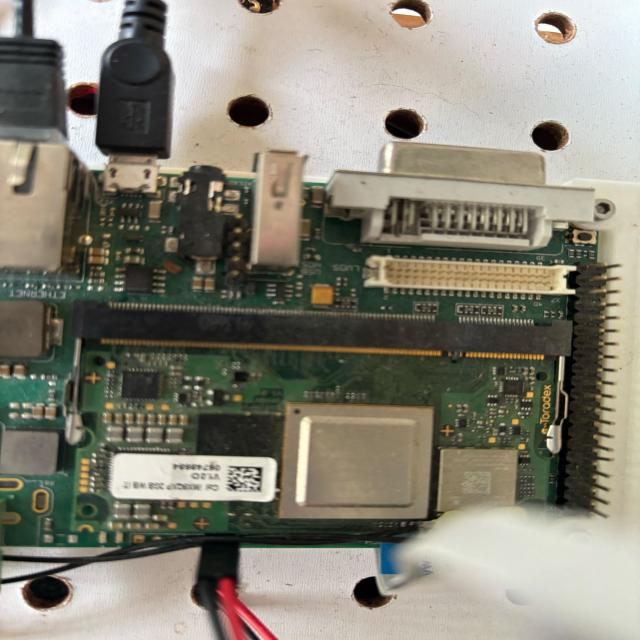som: (73, 315, 594, 534)
